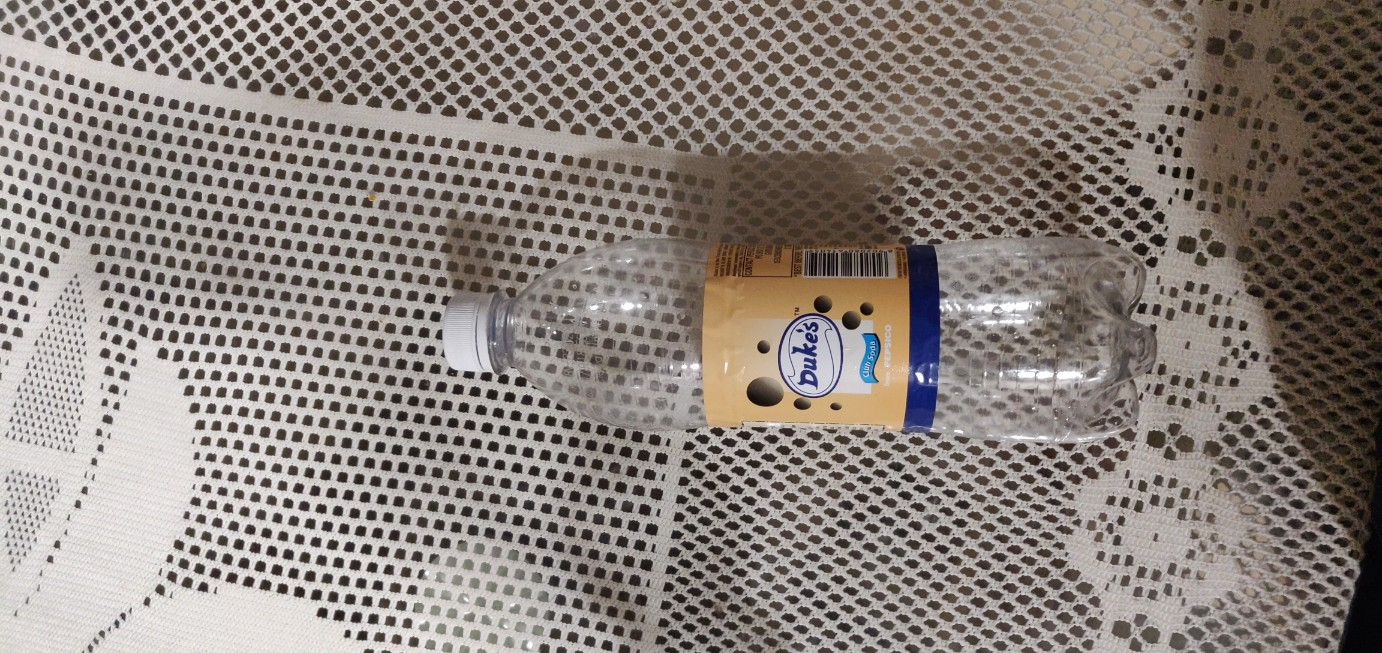Electronics: (426, 219, 1162, 490)
